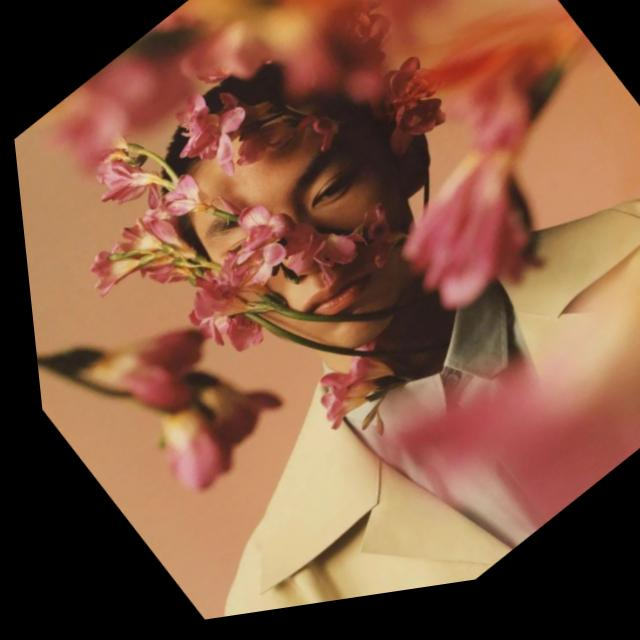Flower: (364, 133, 588, 358), (42, 275, 220, 450), (121, 350, 295, 520), (109, 191, 223, 319), (61, 216, 172, 333), (145, 83, 261, 192), (218, 201, 305, 289), (83, 134, 172, 220), (136, 168, 222, 255), (383, 86, 463, 164), (364, 60, 444, 137), (277, 225, 351, 301)
